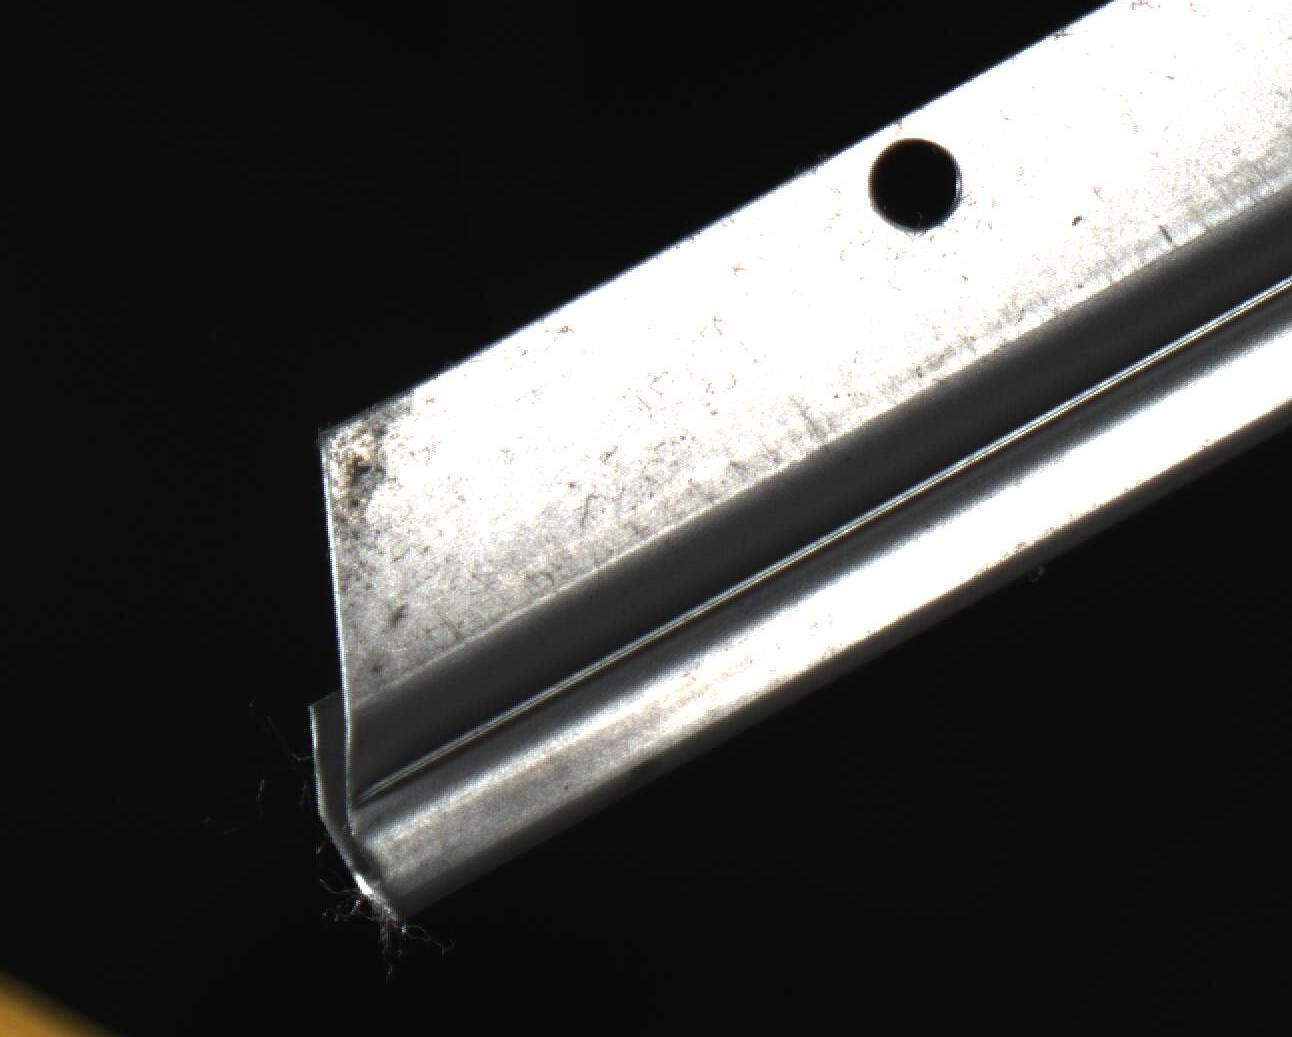cut: (262, 357, 672, 932)
holes: (868, 137, 969, 236)
